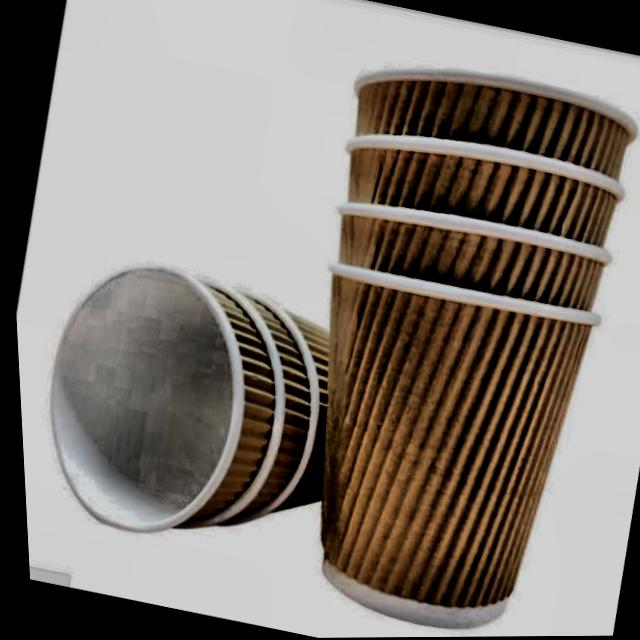Cup: (227, 31, 640, 639), (9, 229, 434, 592)
